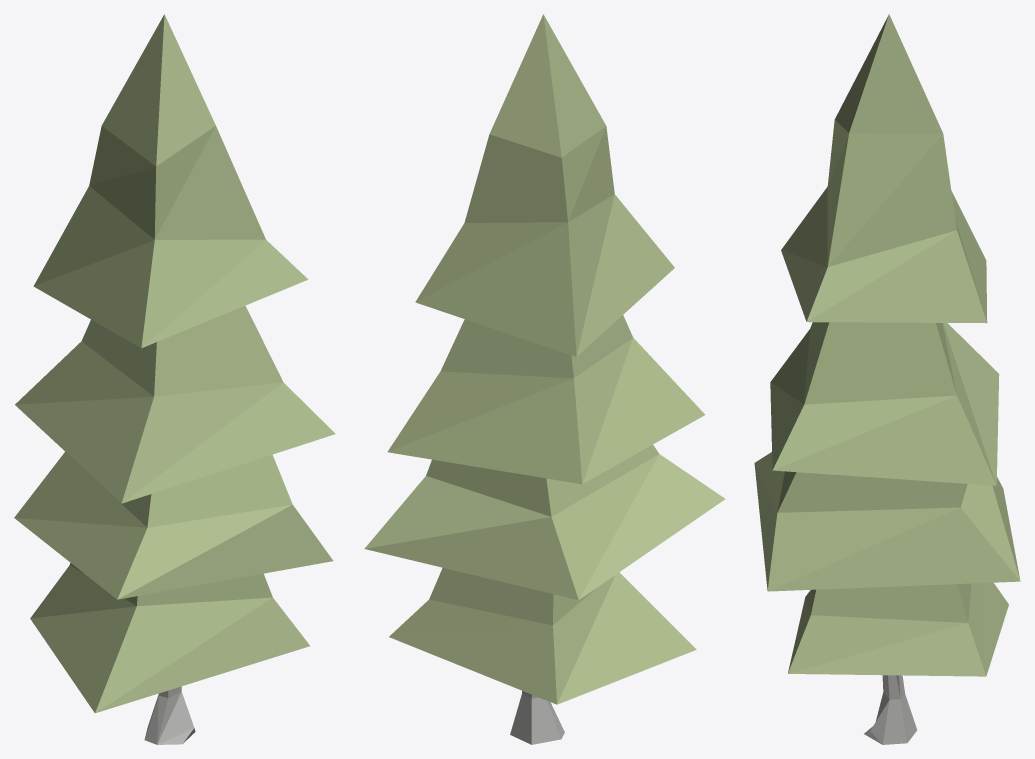
Rendered from TaxodiumDistichum.glb.
3 views of the same model, side by side, from view 1: azimuth 30°, elevation 25°; view 2: azimuth 150°, elevation 25°; view 3: azimuth 270°, elevation 25° (orthographic).
Visible parts, largest first — view 1: Crown, Trunk; view 2: Crown, Trunk; view 3: Crown, Trunk.
Part boxes in pixels (x1,y1,x2,y2): Crown: (14, 14, 335, 713); Trunk: (144, 686, 195, 744); Crown: (364, 14, 724, 704); Trunk: (510, 691, 564, 744); Crown: (754, 14, 1020, 676); Trunk: (864, 675, 917, 744).
Bounding box in the file's own units: 9.53 × 28.78 × 9.67.
